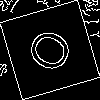O: (25, 25, 83, 81)
